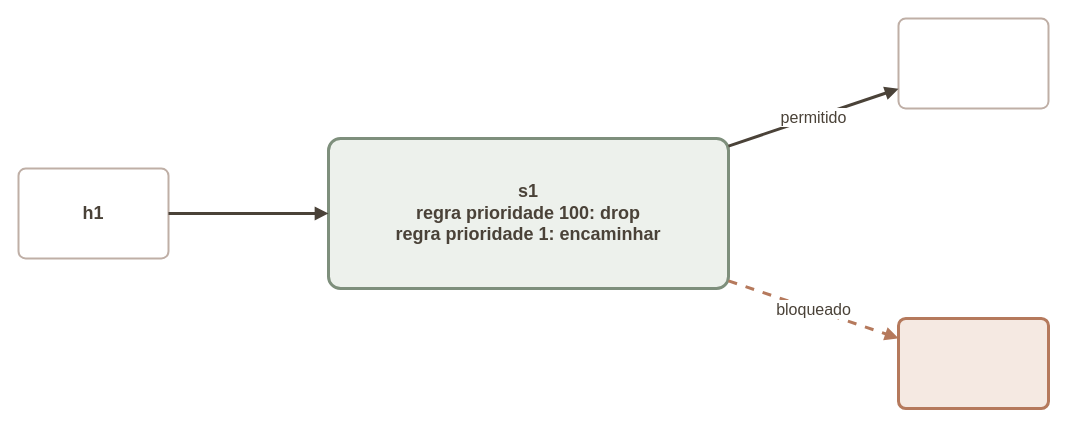
Some shapes in this 1067 by 427 pixel diagram are drawn without their labels. Here are the shapes that lost their labels. From the top down, the centre of each, then its label:
point (973, 63): h2
point (973, 363): h3
